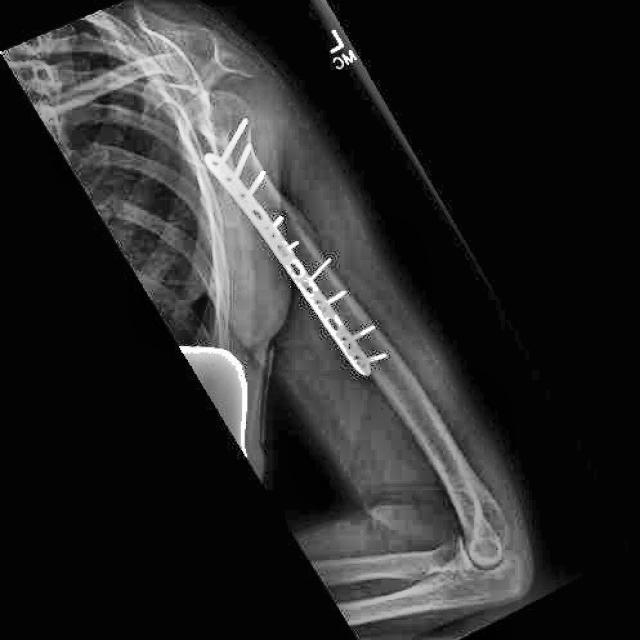humerus: (272, 172, 350, 271)
